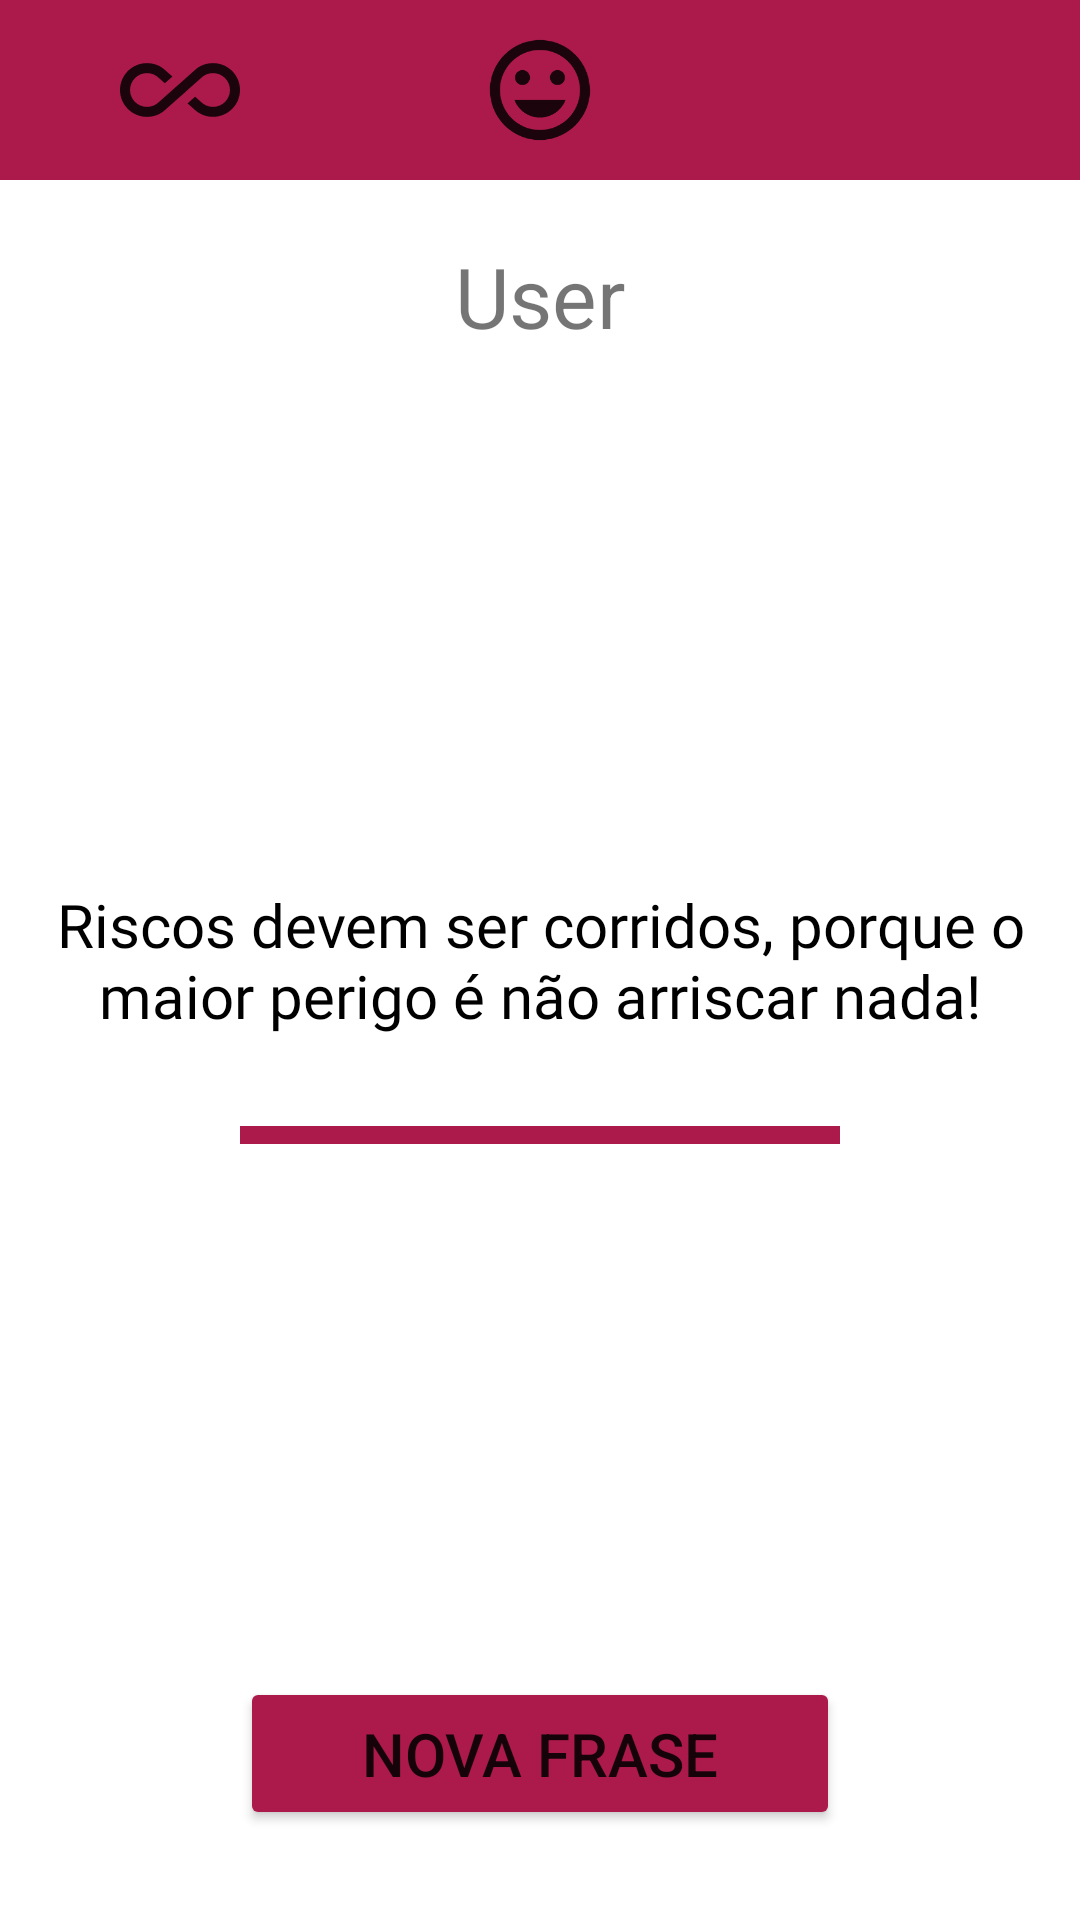

Where icons sit on this 1080*1920 app screen, as [x1, y1, x2, y2]:
infinit: [120, 63, 240, 117]
mood: [490, 40, 590, 140]
